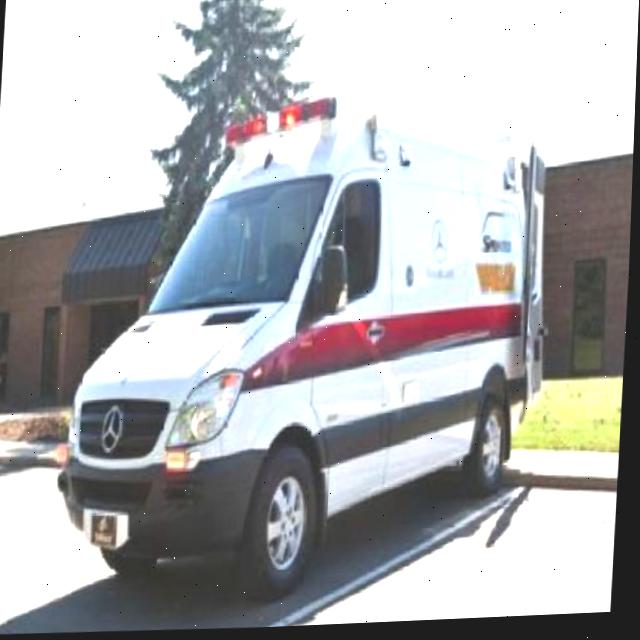emergency: (55, 81, 566, 611)
